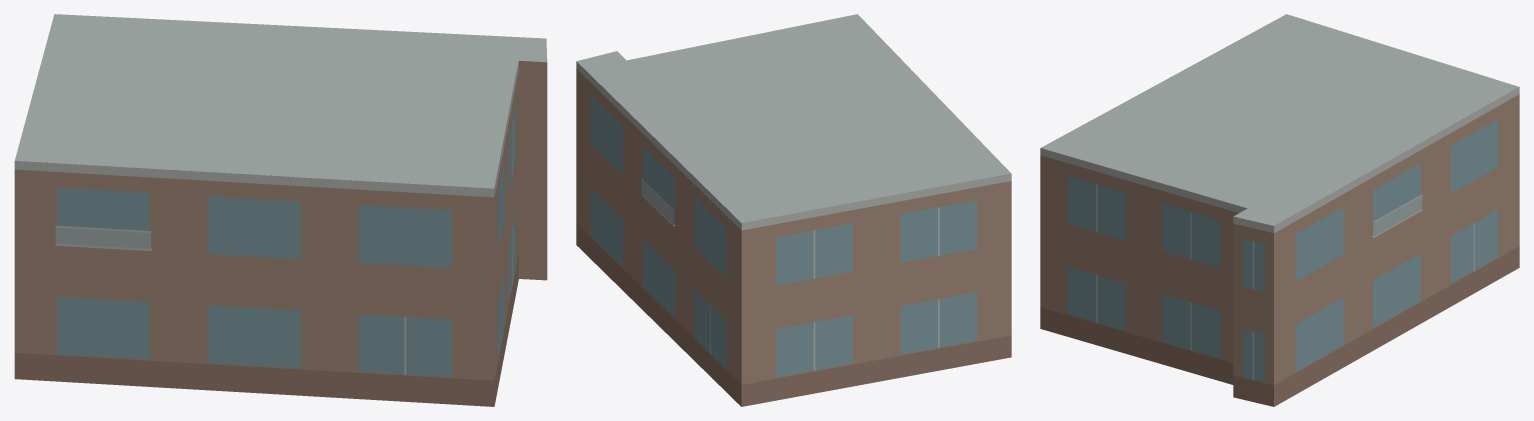
The model's file is survey-upis-32752339.glb.
3 renders of one model, left to right at view 1: azimuth 30°, elevation 25°; view 2: azimuth 150°, elevation 25°; view 3: azimuth 270°, elevation 25°, orthographic. The views are drawn at different scales.
Visible parts, largest first — view 1: survey-upis-32752339.tmp; view 2: survey-upis-32752339.tmp; view 3: survey-upis-32752339.tmp.
Boxes of the visible parts, x1=… form: survey-upis-32752339.tmp: x1=14, y1=14, x2=547, y2=406; survey-upis-32752339.tmp: x1=576, y1=14, x2=1011, y2=406; survey-upis-32752339.tmp: x1=1040, y1=14, x2=1519, y2=406.
Size of the model in its own units: 15.35 by 6.1 by 14.66.
